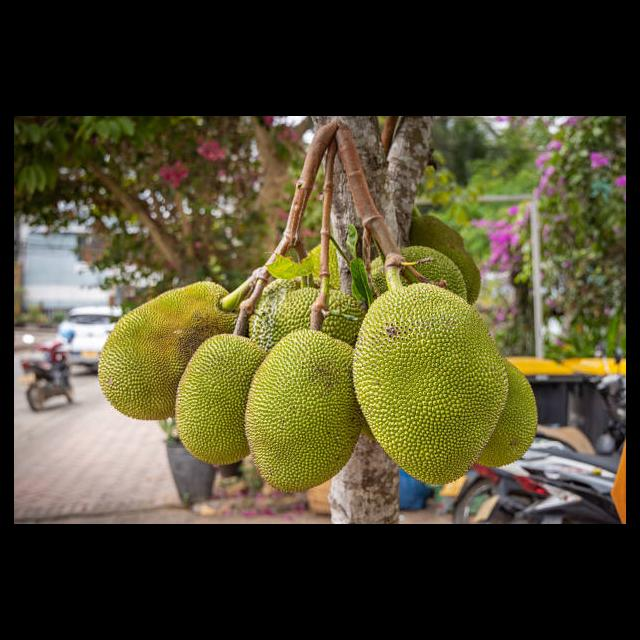mit: (354, 282, 510, 491), (97, 277, 239, 420), (247, 327, 362, 495), (173, 332, 256, 466), (241, 276, 372, 346), (360, 243, 475, 301), (487, 357, 540, 473)
